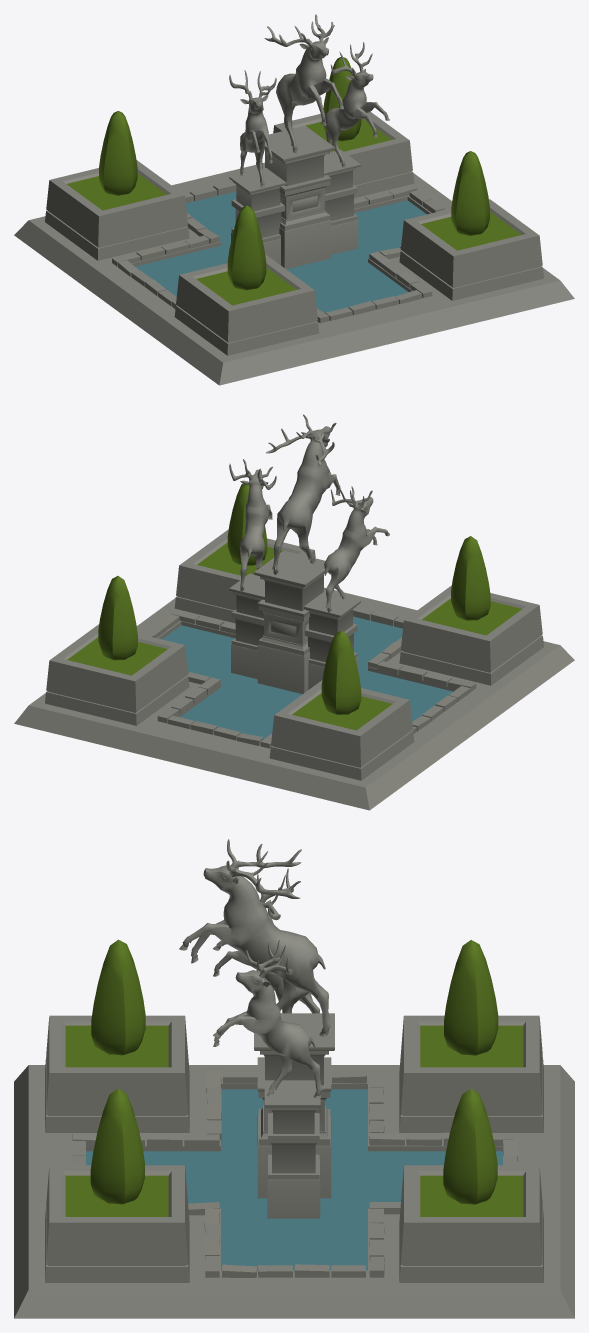
The model's file is Town Center Second Age.glb.
The picture shows the model from 3 angles, top to bottom: view 1: azimuth 30°, elevation 25°; view 2: azimuth 150°, elevation 25°; view 3: azimuth 270°, elevation 25°; orthographic projection. The views are drawn at different scales.
Visible parts, largest first — view 1: TownCenter_SecondAge_Level3; view 2: TownCenter_SecondAge_Level3; view 3: TownCenter_SecondAge_Level3.
Part boxes in pixels (bbox=[...]): TownCenter_SecondAge_Level3: bbox=[14, 14, 574, 385]; TownCenter_SecondAge_Level3: bbox=[14, 414, 574, 810]; TownCenter_SecondAge_Level3: bbox=[14, 839, 574, 1318].
Size of the model in its own units: 1.86 by 1.28 by 1.86.
